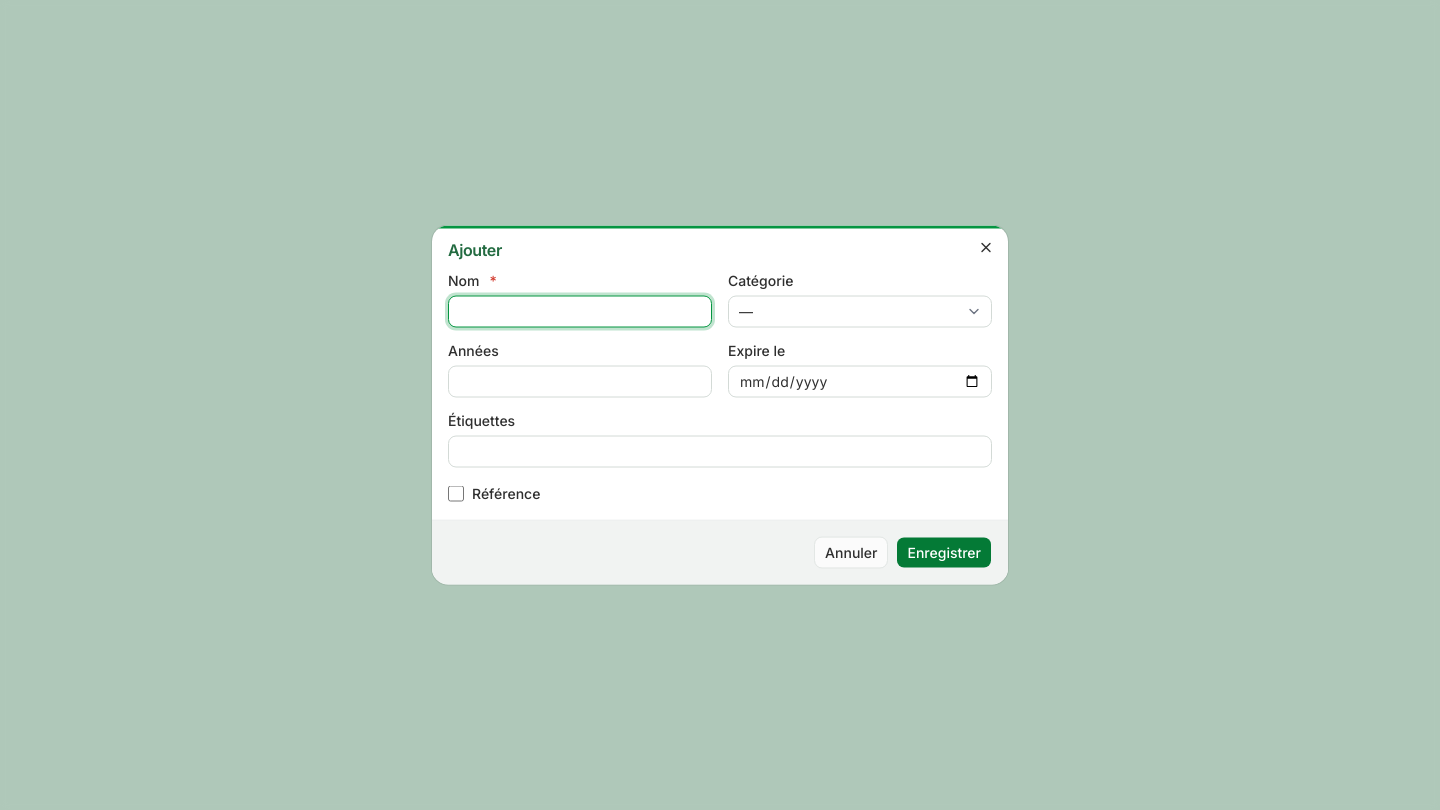
EntityDialog › blocks submission when a required field is empty
The width and height of the screenshot is (1440, 810).
Click the button "Enregistrer": {"x": 944, "y": 552} [896,536,992,568]
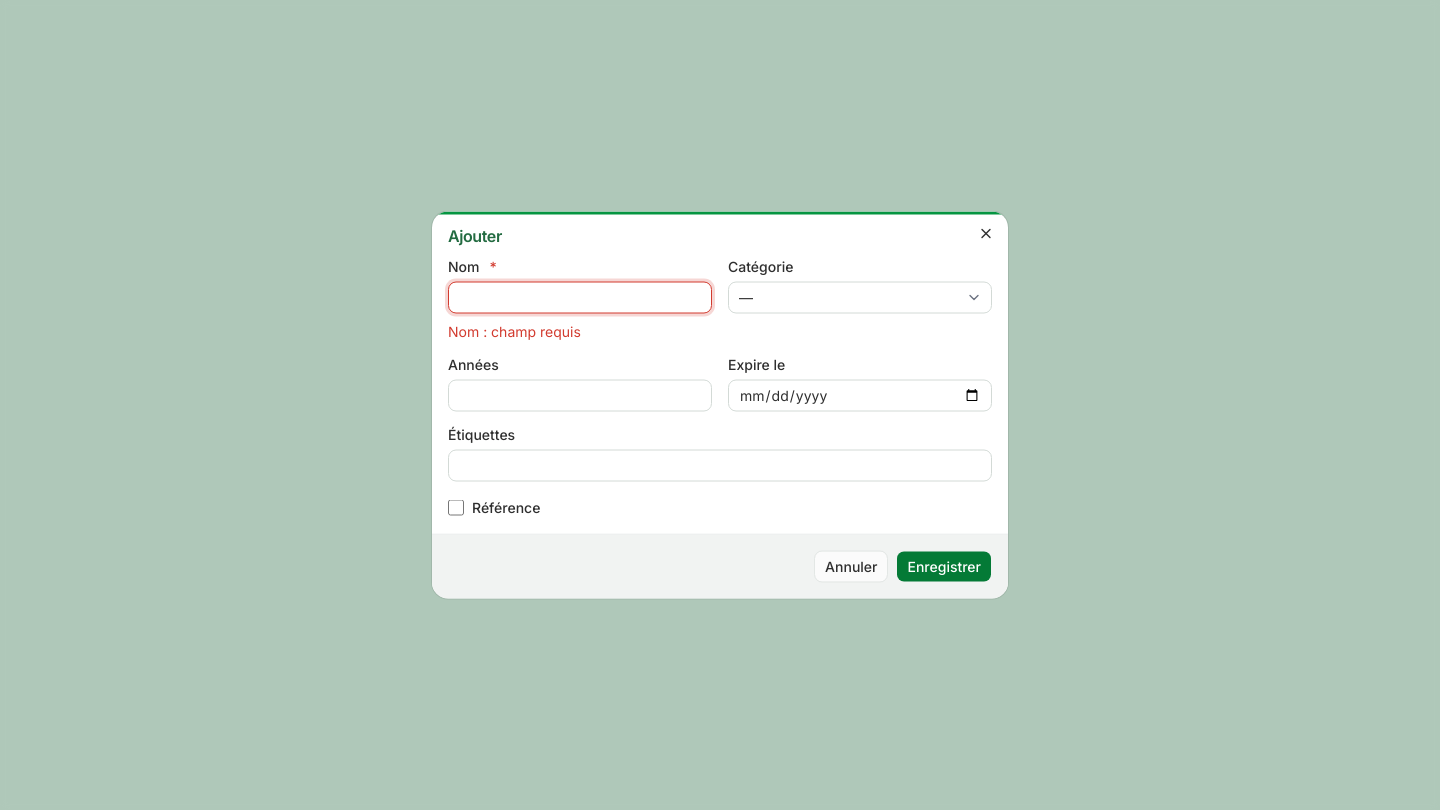
Check: the message shows "requis", box [448,322,581,340]
